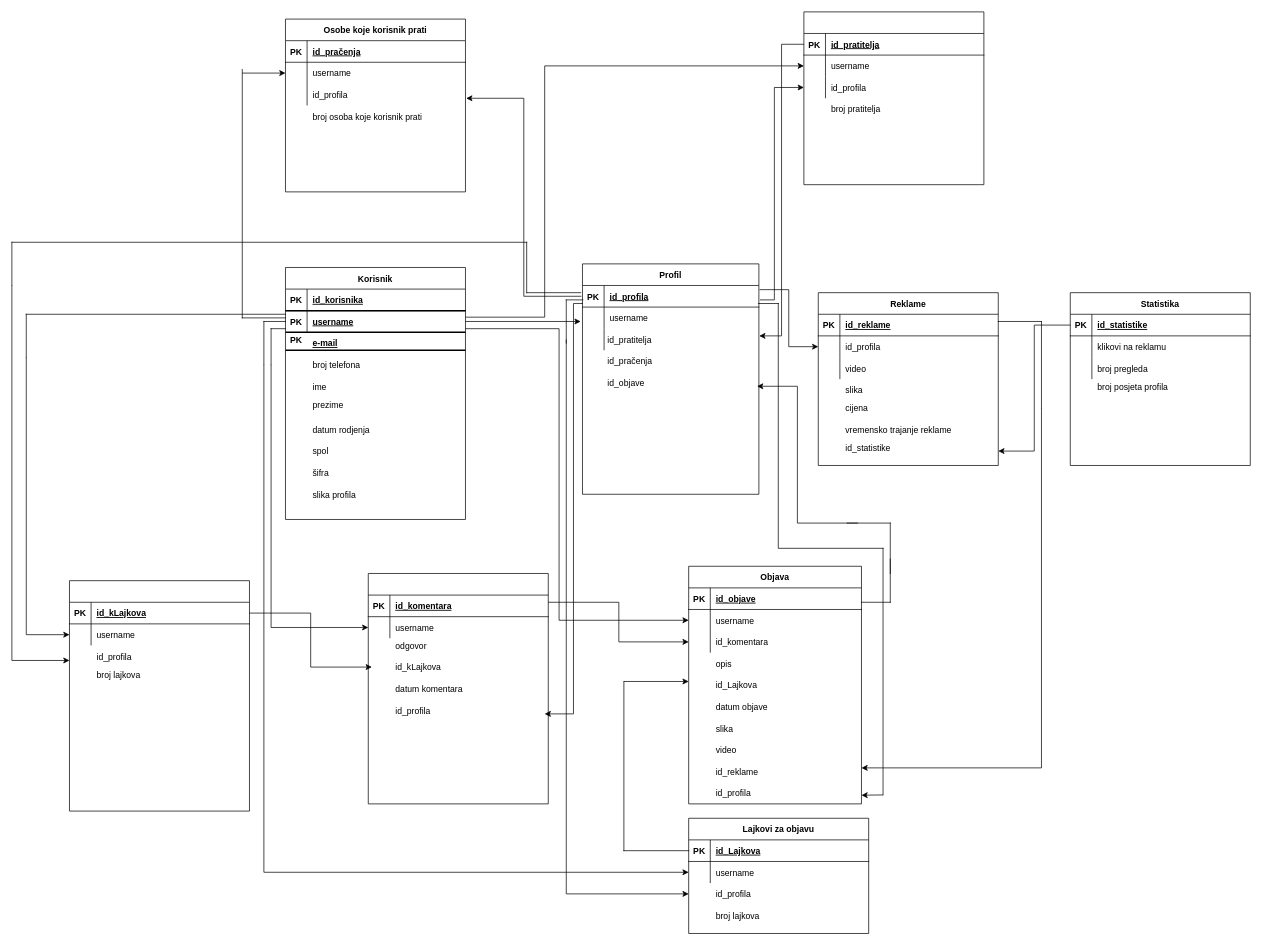
Image size: 1262x945. Some labels were removed from this diagram. The shapes that lost their labels are listed below. From the top down, each one's box as (x1, y1, x2, y2) in pixels, then its label:
(803, 11, 984, 185): Pratitelji
(69, 580, 249, 811): Lajkovi za komentare
(368, 573, 548, 804): Komentari
